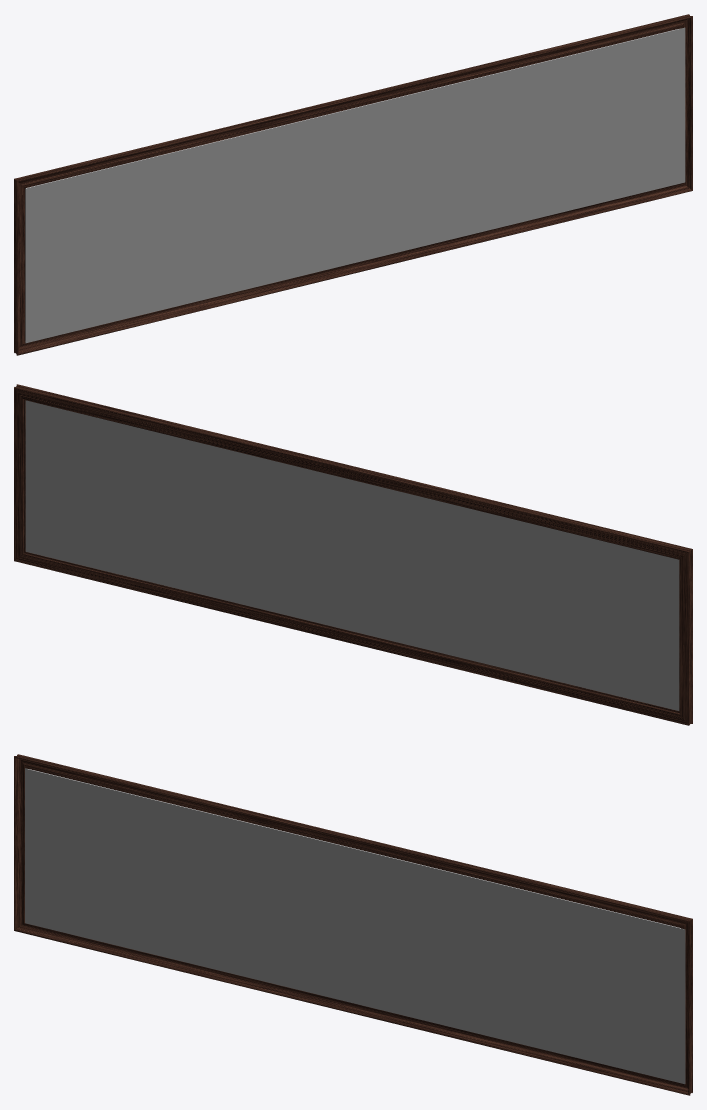
Rendered from mirror.FBX.
The picture shows the model from 3 angles, top to bottom: view 1: azimuth 30°, elevation 25°; view 2: azimuth 150°, elevation 25°; view 3: azimuth 330°, elevation 25°; orthographic projection.
Parts seen in each view (by area): view 1: frame; view 2: frame; view 3: frame.
Boxes of the visible parts, x1,y1,x2,y2 form: frame: (14,14,692,355); frame: (14,384,692,725); frame: (14,754,692,1095).
Size of the model in its own units: 348 by 85.94 by 3.32.
Materials: 2 (1 with a texture image).
